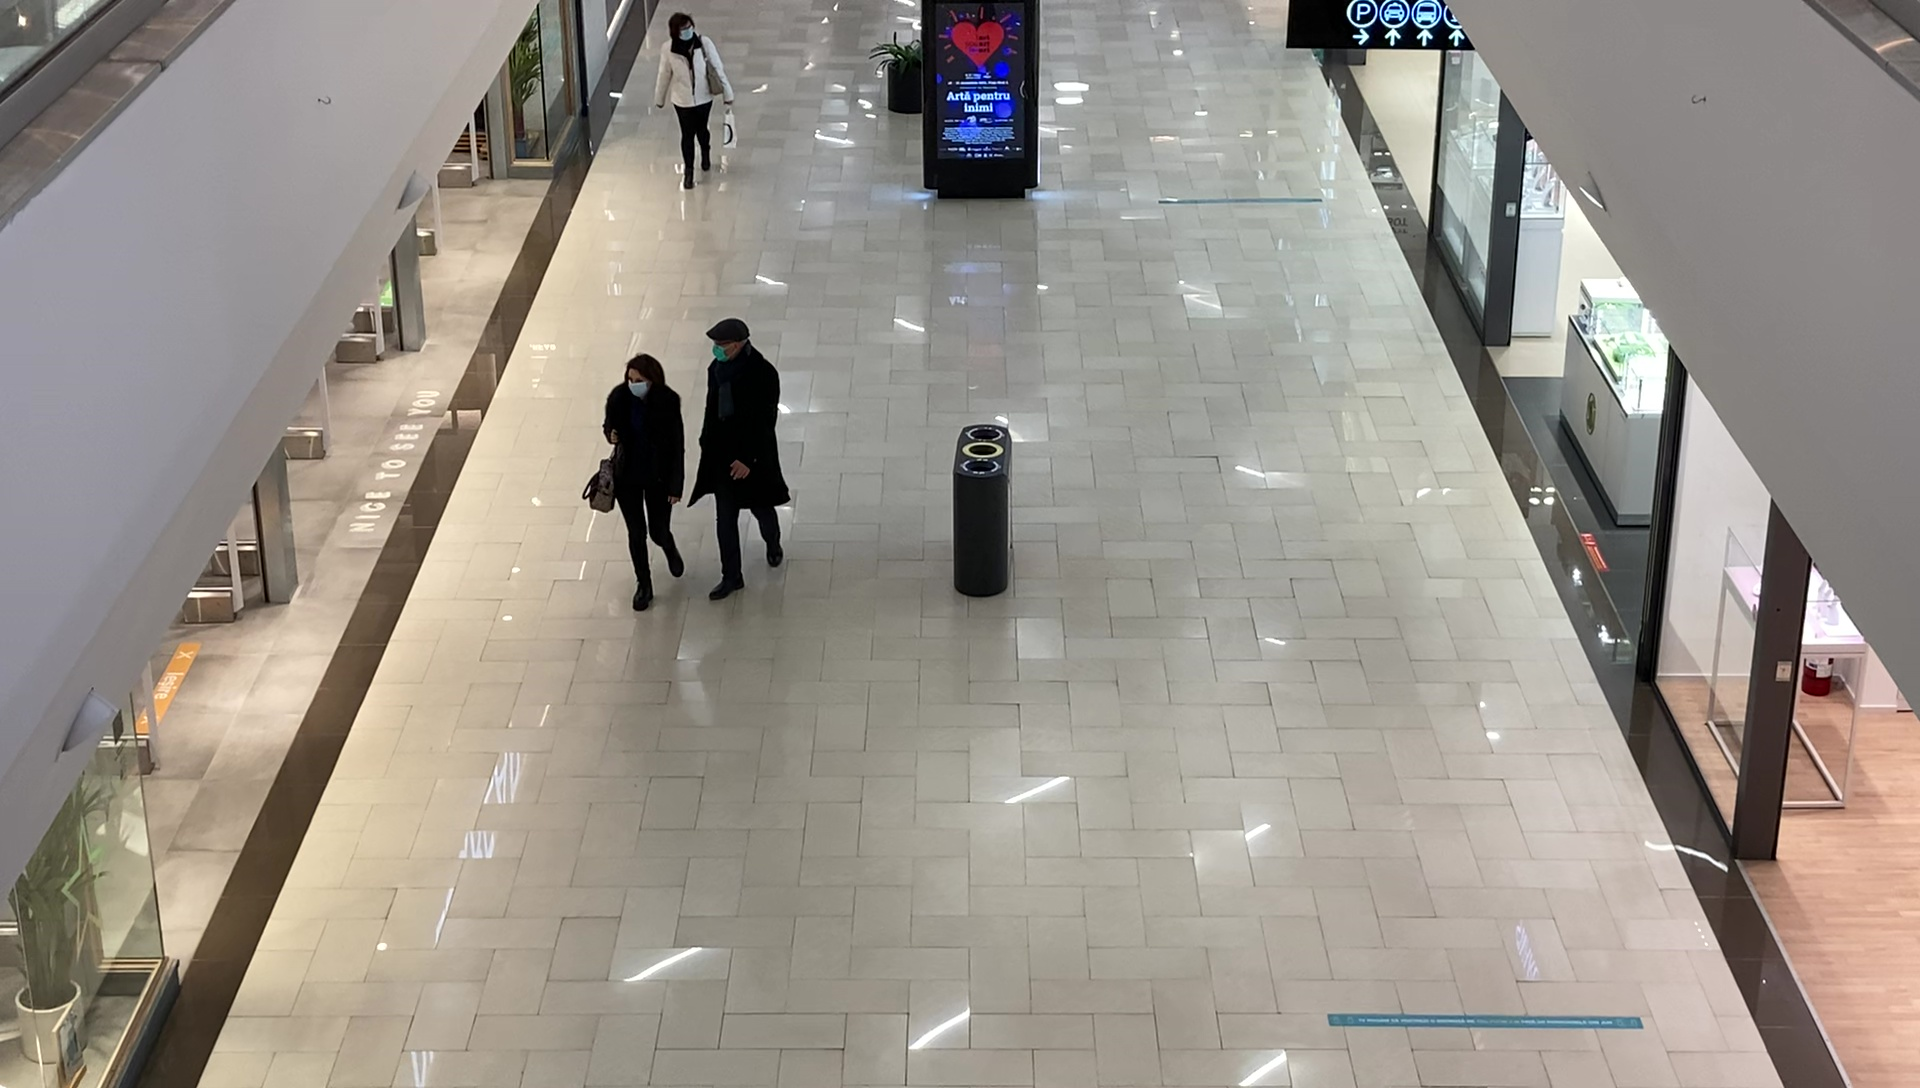person: (687, 319, 794, 603), (589, 356, 687, 613), (653, 13, 739, 192)
